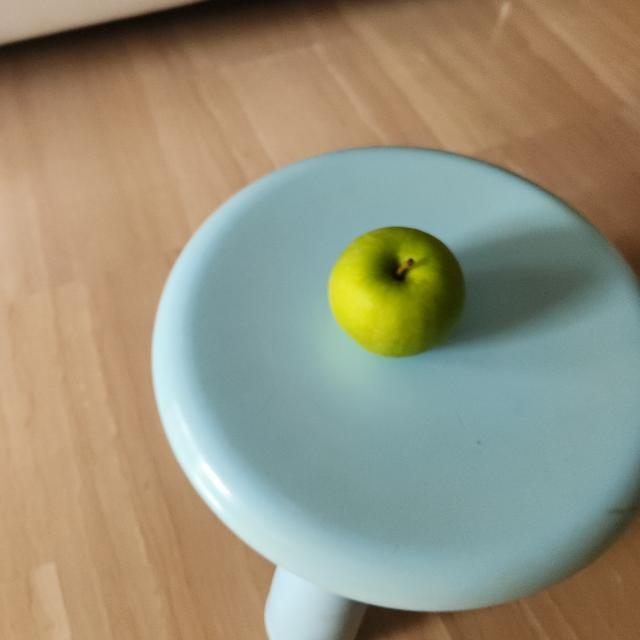apple: (330, 228, 471, 362)
